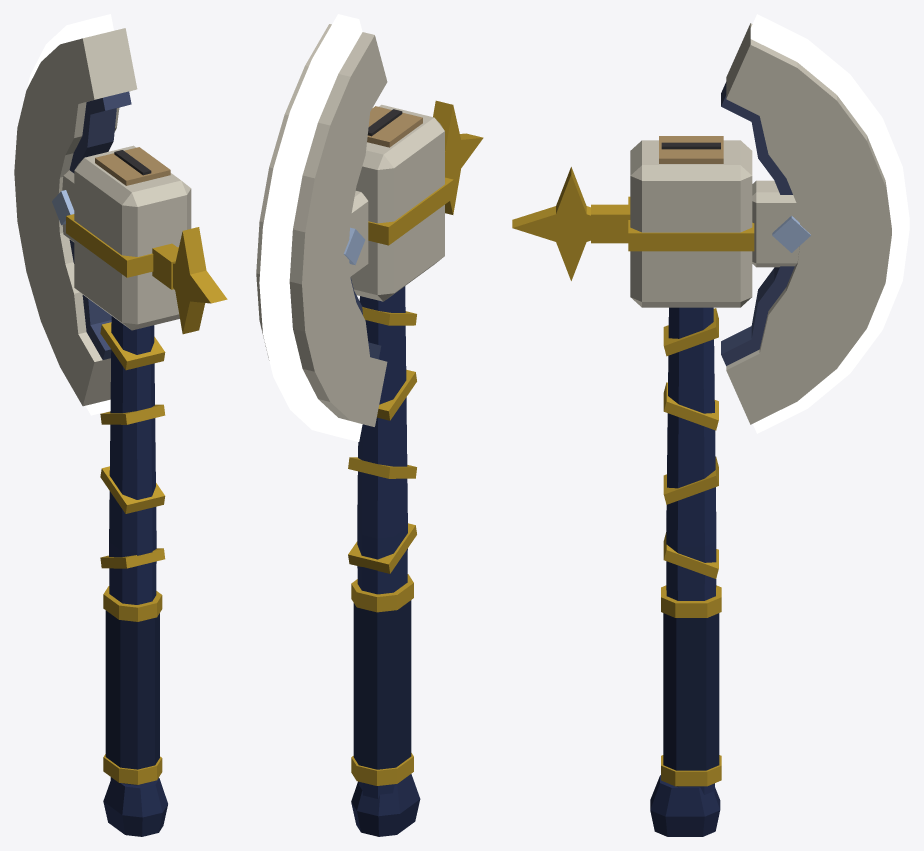
Rendered from StarfallAxe.glb.
The picture shows the model from 3 angles, left to right: view 1: azimuth 30°, elevation 25°; view 2: azimuth 150°, elevation 25°; view 3: azimuth 270°, elevation 25°; orthographic projection. The views are drawn at different scales.
Parts seen in each view (by area): view 1: Head, Handle, Glow; view 2: Head, Handle, Glow; view 3: Head, Handle, Glow.
Part boxes in pixels (box(x1,y1,x2,y2)): Head: box(14, 28, 227, 406); Handle: box(95, 147, 170, 836); Glow: box(27, 14, 113, 415); Head: box(256, 24, 483, 426); Handle: box(348, 106, 422, 836); Glow: box(259, 14, 362, 441); Head: box(512, 23, 891, 424); Handle: box(650, 136, 723, 836); Glow: box(750, 14, 909, 433).
Size of the model in its own units: 0.4664 by 4.81 by 2.14.
